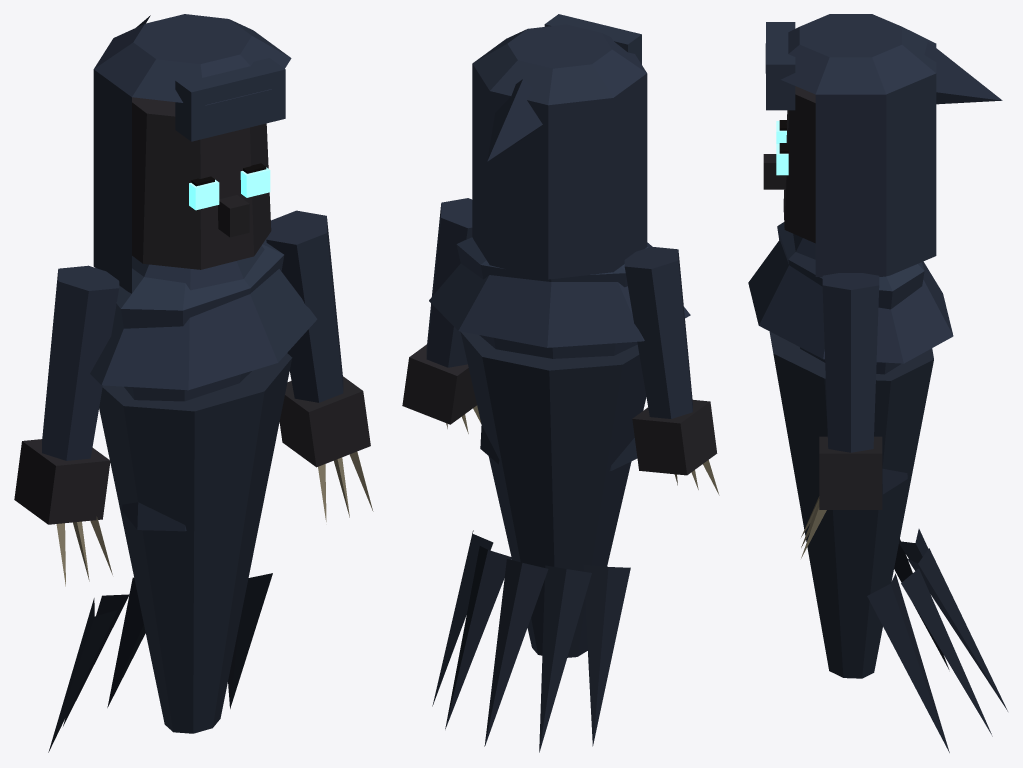
The model's file is wraith.glb.
3 views of the same model, side by side, from view 1: azimuth 30°, elevation 25°; view 2: azimuth 150°, elevation 25°; view 3: azimuth 270°, elevation 25° (orthographic). The views are drawn at different scales.
Parts seen in each view (by area): view 1: wraith_torso, wraith_head, wraith_arm_r, wraith_arm_l; view 2: wraith_torso, wraith_head, wraith_arm_r, wraith_arm_l; view 3: wraith_torso, wraith_head, wraith_arm_l.
Boxes of the visible parts, x1,y1,x2,y2 form: wraith_torso: (48, 239, 317, 752); wraith_head: (93, 14, 291, 293); wraith_arm_r: (14, 265, 119, 586); wraith_arm_l: (266, 210, 373, 521); wraith_torso: (429, 237, 690, 752); wraith_head: (472, 14, 647, 279); wraith_arm_r: (624, 246, 719, 495); wraith_arm_l: (402, 198, 481, 433); wraith_torso: (748, 222, 1007, 752); wraith_head: (763, 14, 1002, 276); wraith_arm_l: (801, 273, 882, 558).
Bounding box in the file's own units: 0.9031 × 1.96 × 0.6826.
